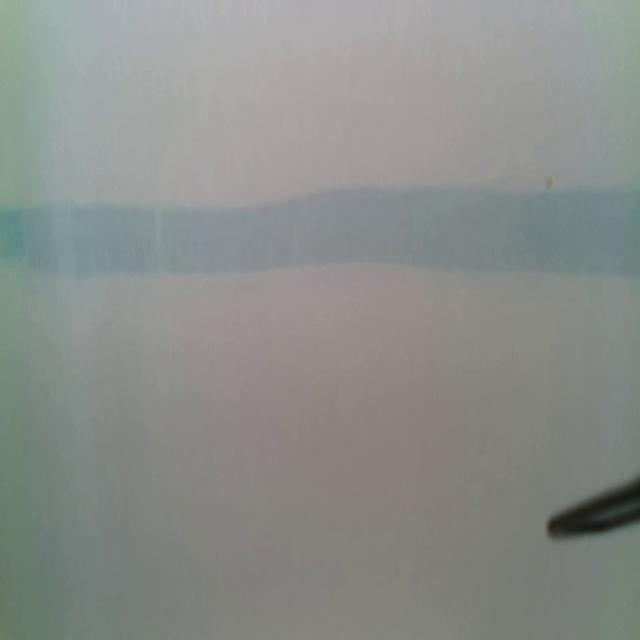color bleeding: (0, 172, 640, 292)
